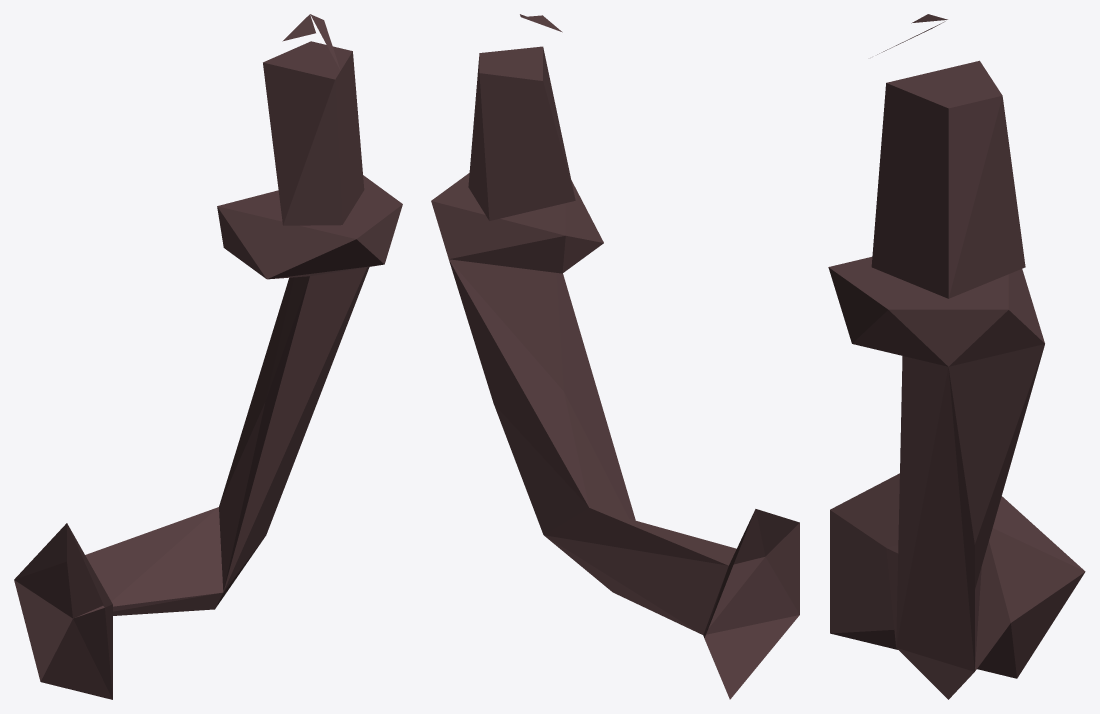
File: ew-warning-light.lod2.glb
3 views of the same model, side by side, from view 1: azimuth 30°, elevation 25°; view 2: azimuth 150°, elevation 25°; view 3: azimuth 270°, elevation 25° (orthographic). The views are drawn at different scales.
Visible parts, largest first — view 1: pipers_old_0; view 2: pipers_old_0; view 3: pipers_old_0.
Part boxes in pixels (x1,y1,x2,y2): pipers_old_0: [14, 14, 402, 699]; pipers_old_0: [431, 14, 799, 699]; pipers_old_0: [828, 14, 1085, 699].
Size of the model in its own units: 0.2075 by 0.392 by 0.1125.
